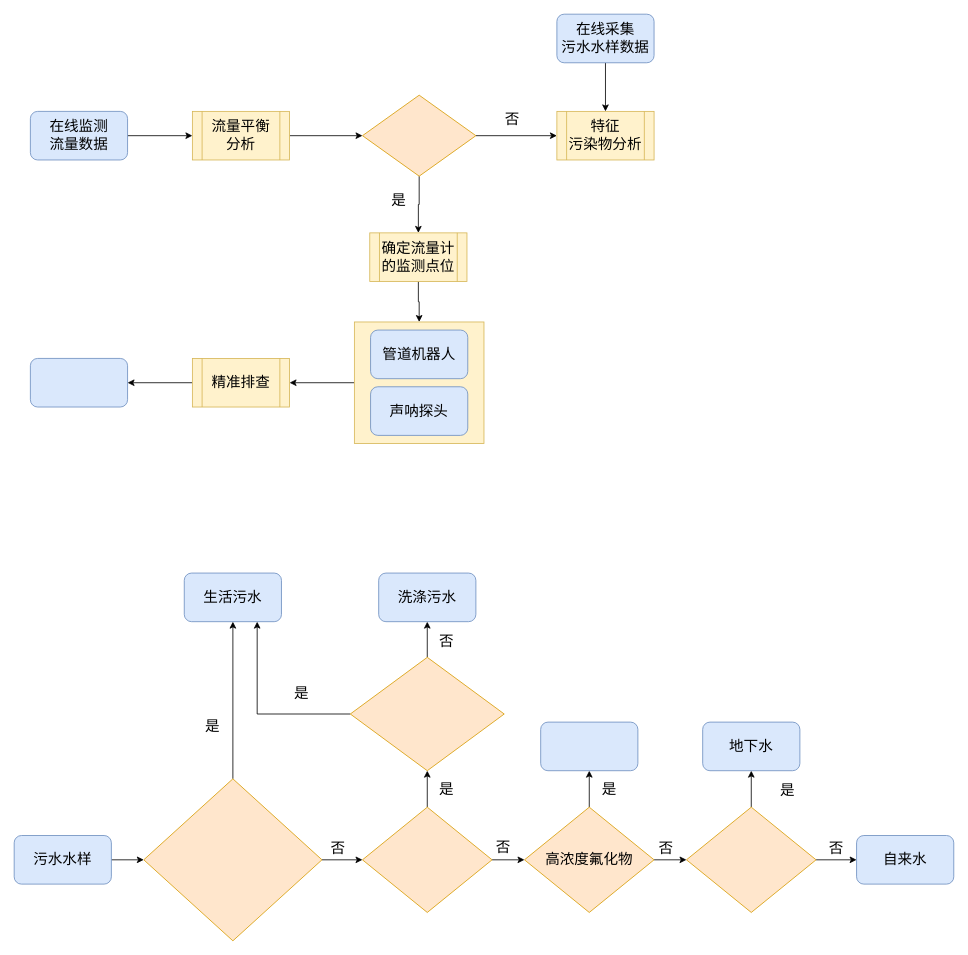
The diagram is 968 pixels wide and 955 high, and some of its shapes have lost their labels. The centre of each missing label's shape, as x and y in pixels:
"大肠杆菌 > 120000 MPN/L 或 肠球菌 > 50000 MPN/L" goes at (232,859).
"工业污水" goes at (589,746).
"流量异常" goes at (419,135).
"表面活性剂 / 氨氮 < 0.2 且 氨氮 / 钾 >1.0" goes at (427,714).
"表面活性剂 > 0.25 mg/L" goes at (427,859).
"输出结论" goes at (79,382).
"高钙镁离子浓度" goes at (751,859).
